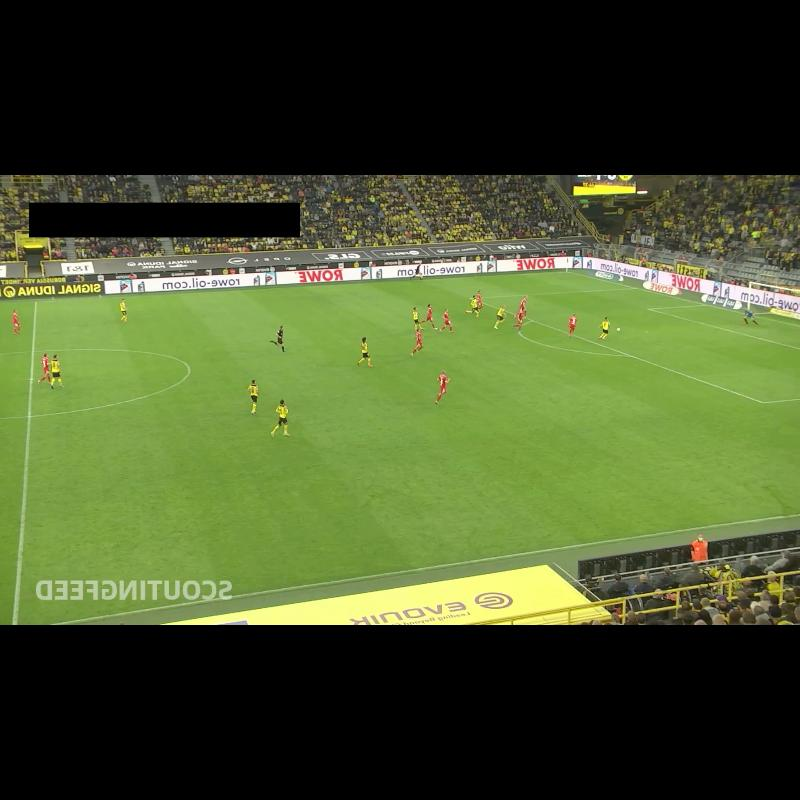cross_recipient_zone: (470, 288, 800, 403)
crossing_player_zone: (615, 398, 800, 513), (334, 272, 633, 304)
pitch: (0, 272, 800, 625)
